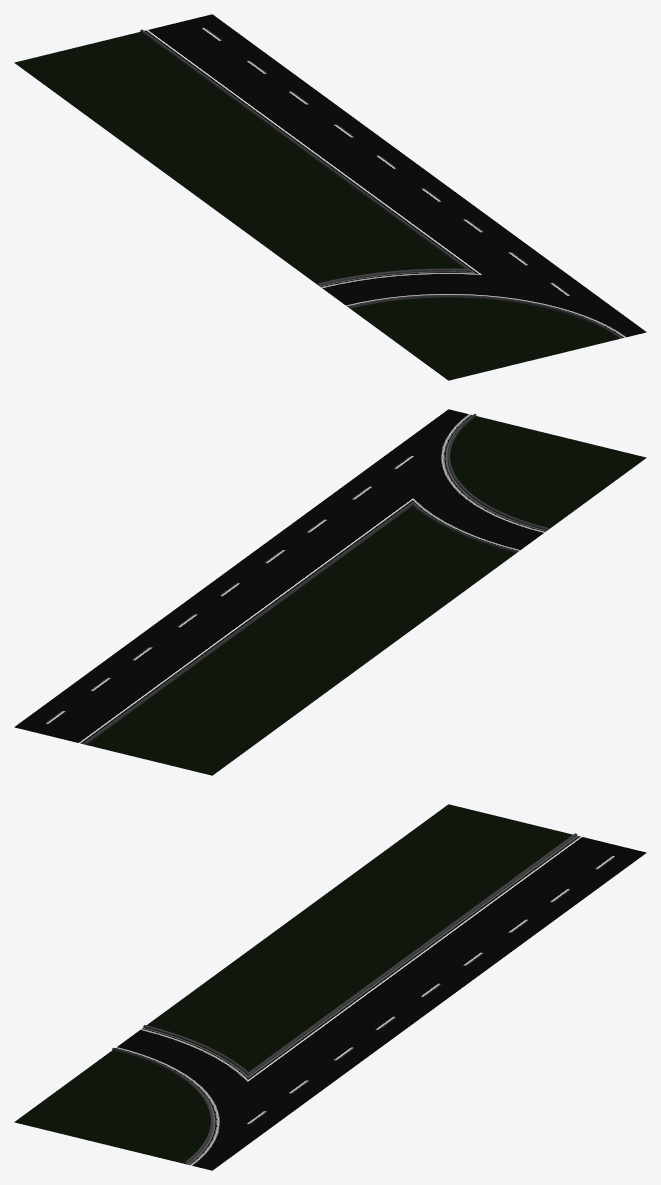
The model's file is uturn-4L.fbx.
3 views of the same model, one above another, from view 1: azimuth 30°, elevation 25°; view 2: azimuth 150°, elevation 25°; view 3: azimuth 330°, elevation 25° (orthographic).
Parts seen in each view (by area): view 1: 3R回转; view 2: 3R回转; view 3: 3R回转.
Part boxes in pixels (bbox=[...]): 3R回转: bbox=[14, 14, 646, 380]; 3R回转: bbox=[14, 409, 646, 775]; 3R回转: bbox=[14, 804, 646, 1170].
Bounding box in the file's own units: 1688 × 15 × 6400.
